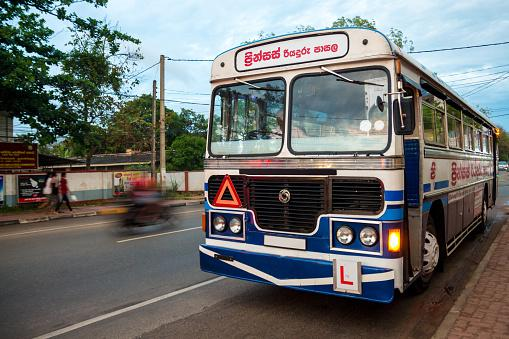bus: (197, 21, 509, 309)
